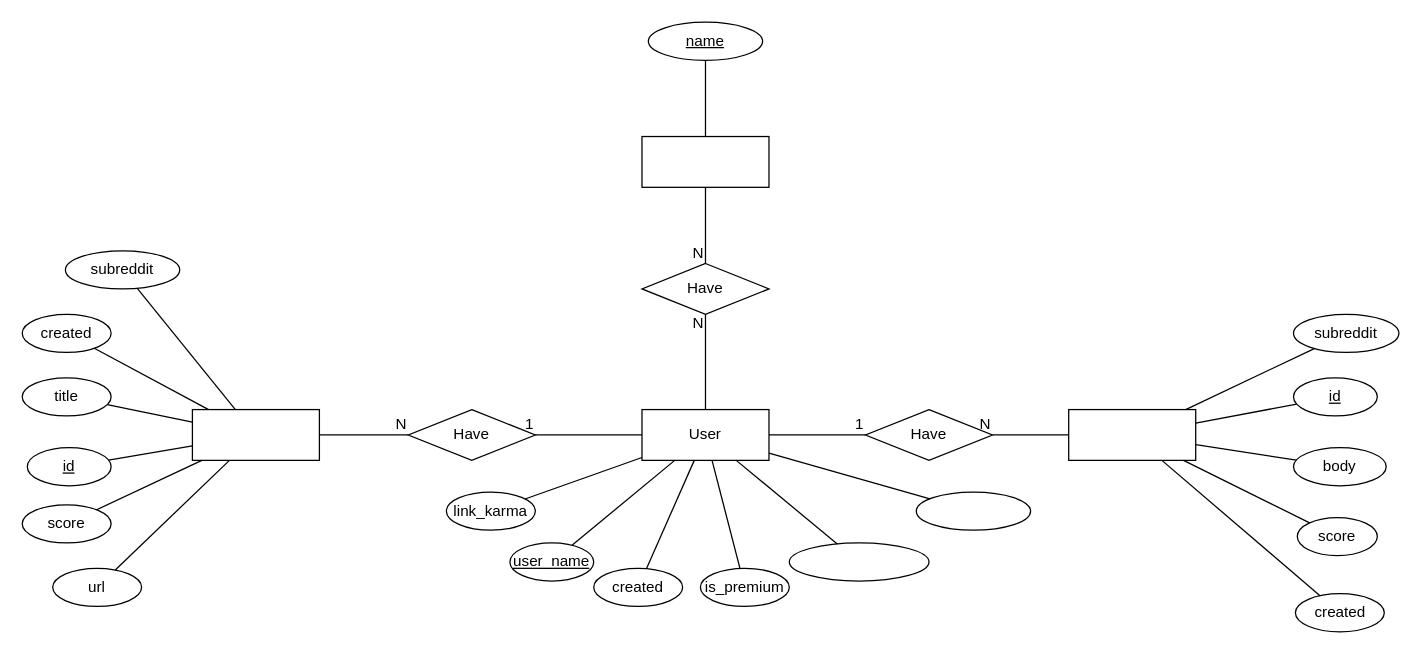
Image size: 1421x654. Some labels were removed from this diagram. The box of each missing label's shape, as (x1, y1, x2, y2) in pixels:
Achiverment: (641, 135, 769, 187)
Comment: (1067, 408, 1196, 460)
comment_karma: (788, 542, 929, 581)
Post: (191, 408, 319, 460)
verified_email: (915, 491, 1031, 530)
